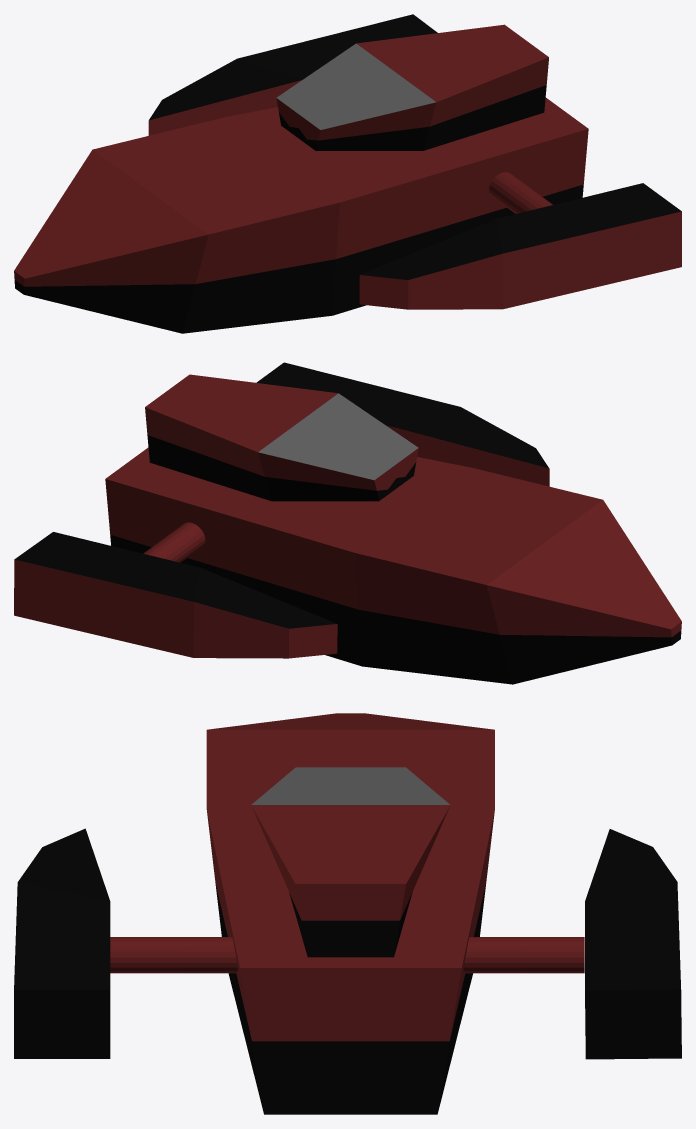
Rendered from ShipV2.fbx.
3 renders of one model, top to bottom at view 1: azimuth 30°, elevation 25°; view 2: azimuth 150°, elevation 25°; view 3: azimuth 270°, elevation 25°, orthographic. The views are drawn at different scales.
Parts seen in each view (by area): view 1: pCube5; view 2: pCube5; view 3: pCube5.
Part boxes in pixels (x1,y1,x2,y2): pCube5: [14, 14, 681, 333]; pCube5: [14, 362, 681, 684]; pCube5: [14, 713, 681, 1114].
Bounding box in the file's own units: 7.92 × 2.55 × 7.01.
